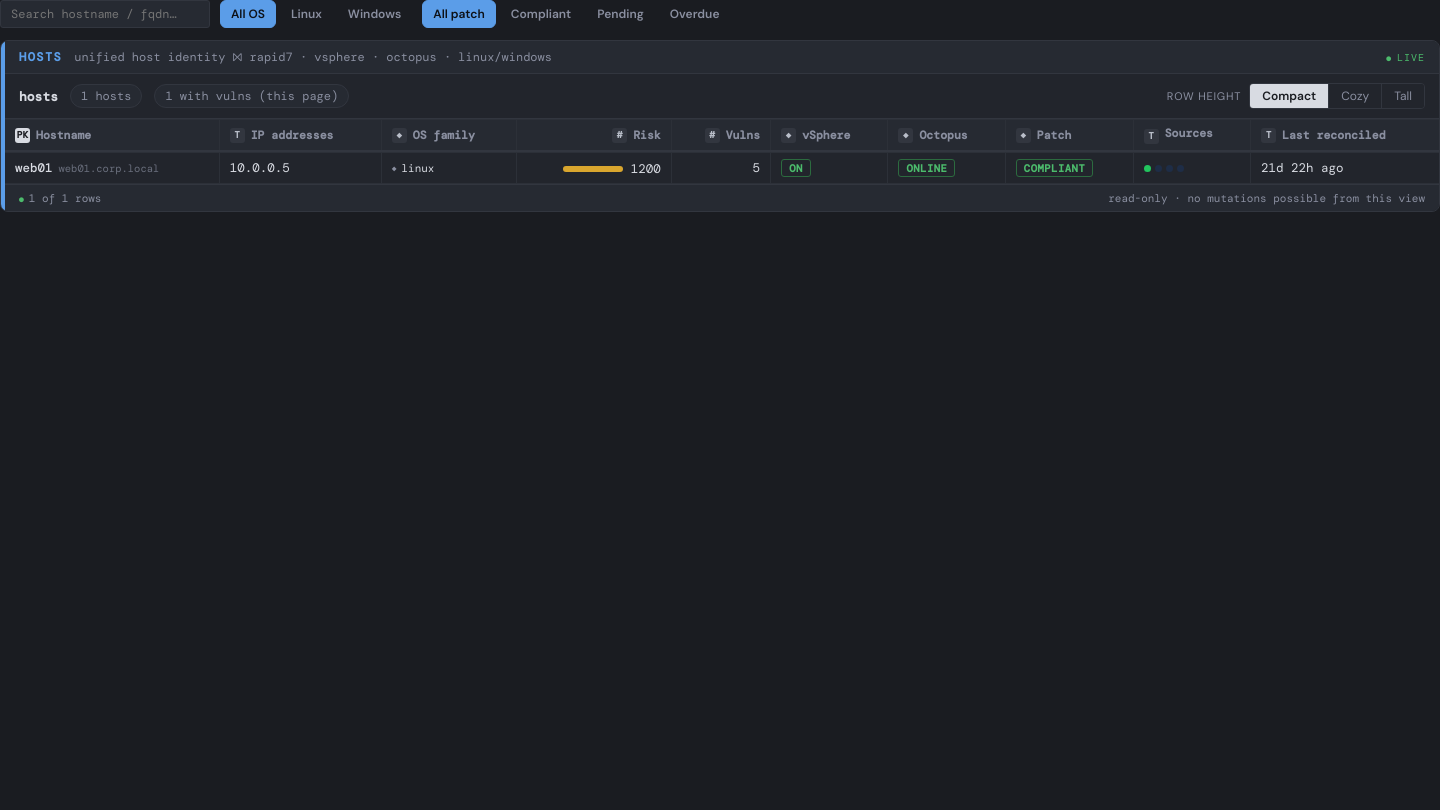
UnifiedHostsTab — host-vulns drawer VULN panel rail › renders the 'err' rail when the host has critical CVEs
The width and height of the screenshot is (1440, 810).
expect the text "web01" is shown: met, box [15,160,52,176]
Click the text "web01".
click(722, 168)  # box [5,152,1439,184]
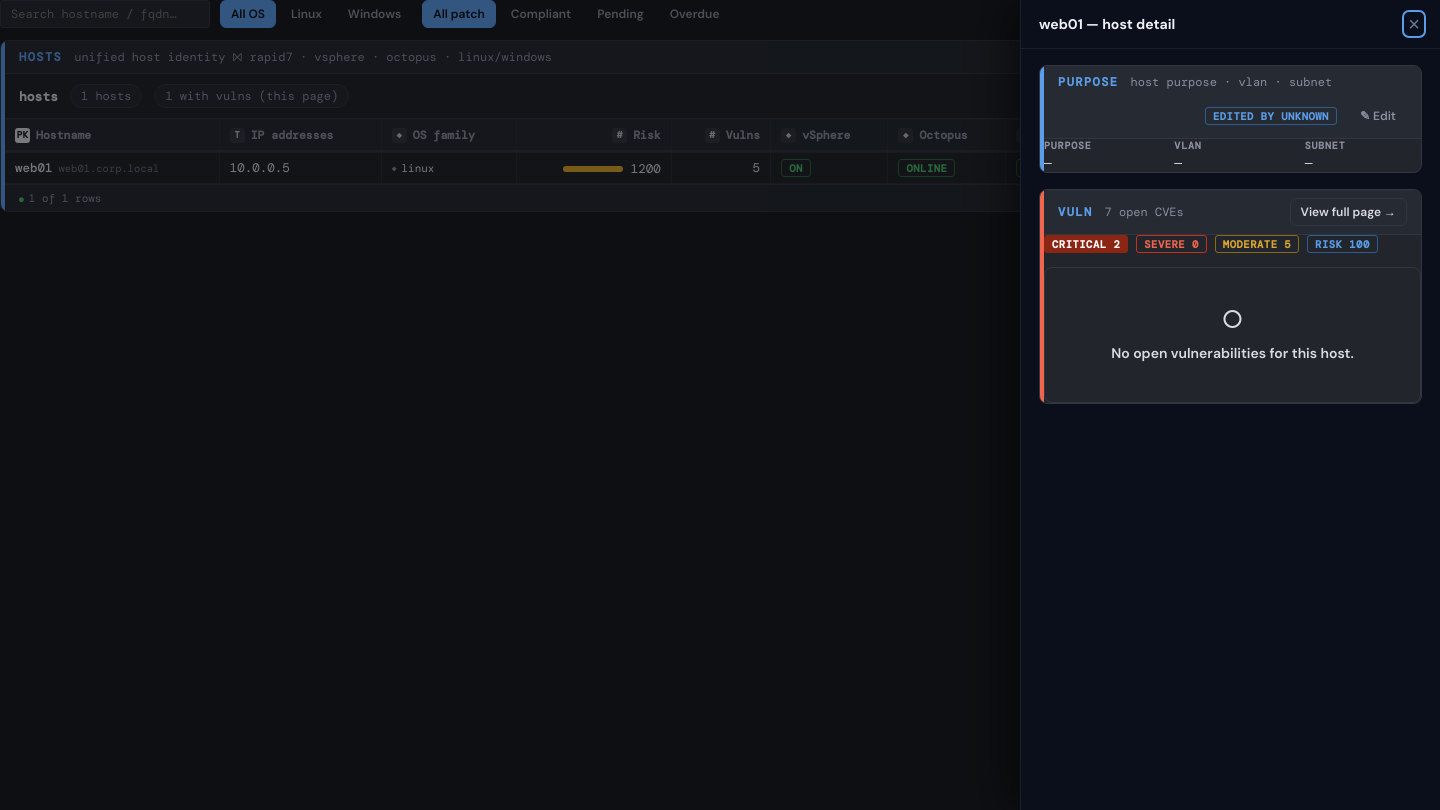
expect the element "VULN" is shown: met, box [1039,189,1422,404]
expect the text "Critical 2" is shown: met, box [1044,235,1128,253]
